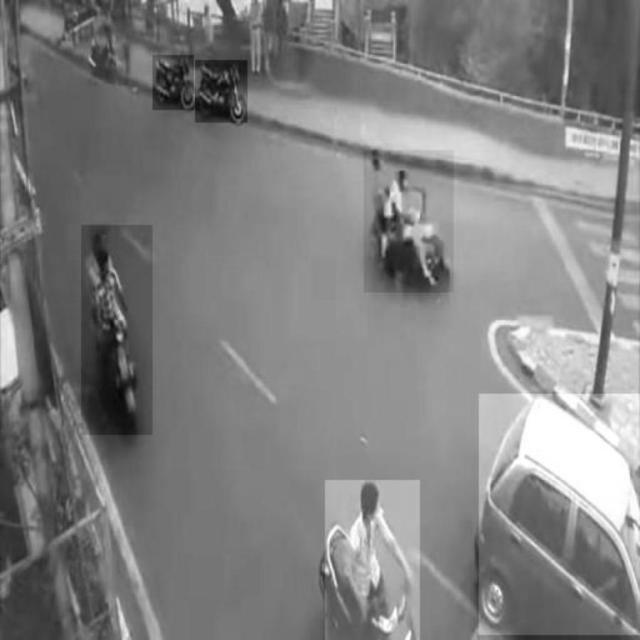accident: (364, 150, 454, 292)
vehicle: (479, 394, 639, 635), (325, 480, 419, 640), (81, 225, 152, 435), (194, 60, 248, 122), (153, 55, 194, 110)
